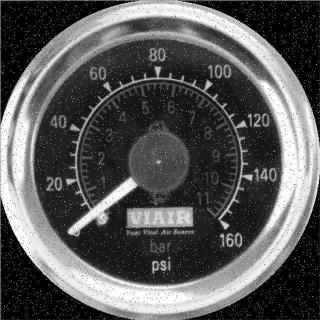gauge: (0, 0, 320, 320), (130, 127, 190, 195), (207, 210, 242, 242), (68, 204, 103, 236), (64, 226, 76, 238)
